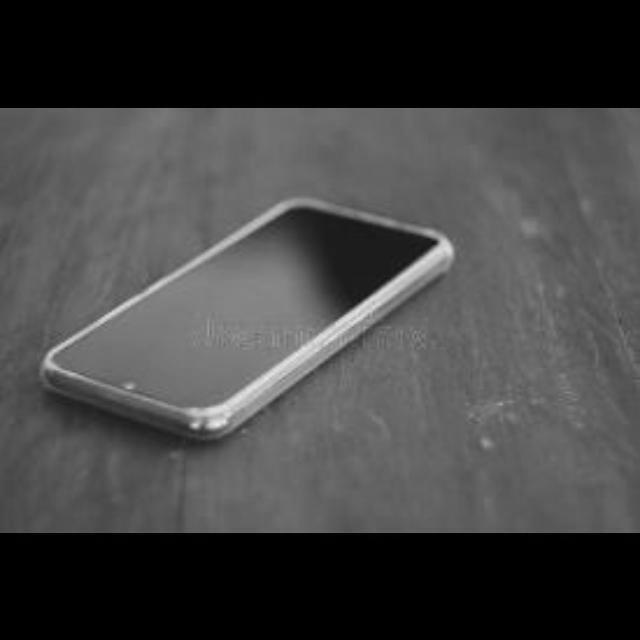fake: (30, 150, 484, 461)
